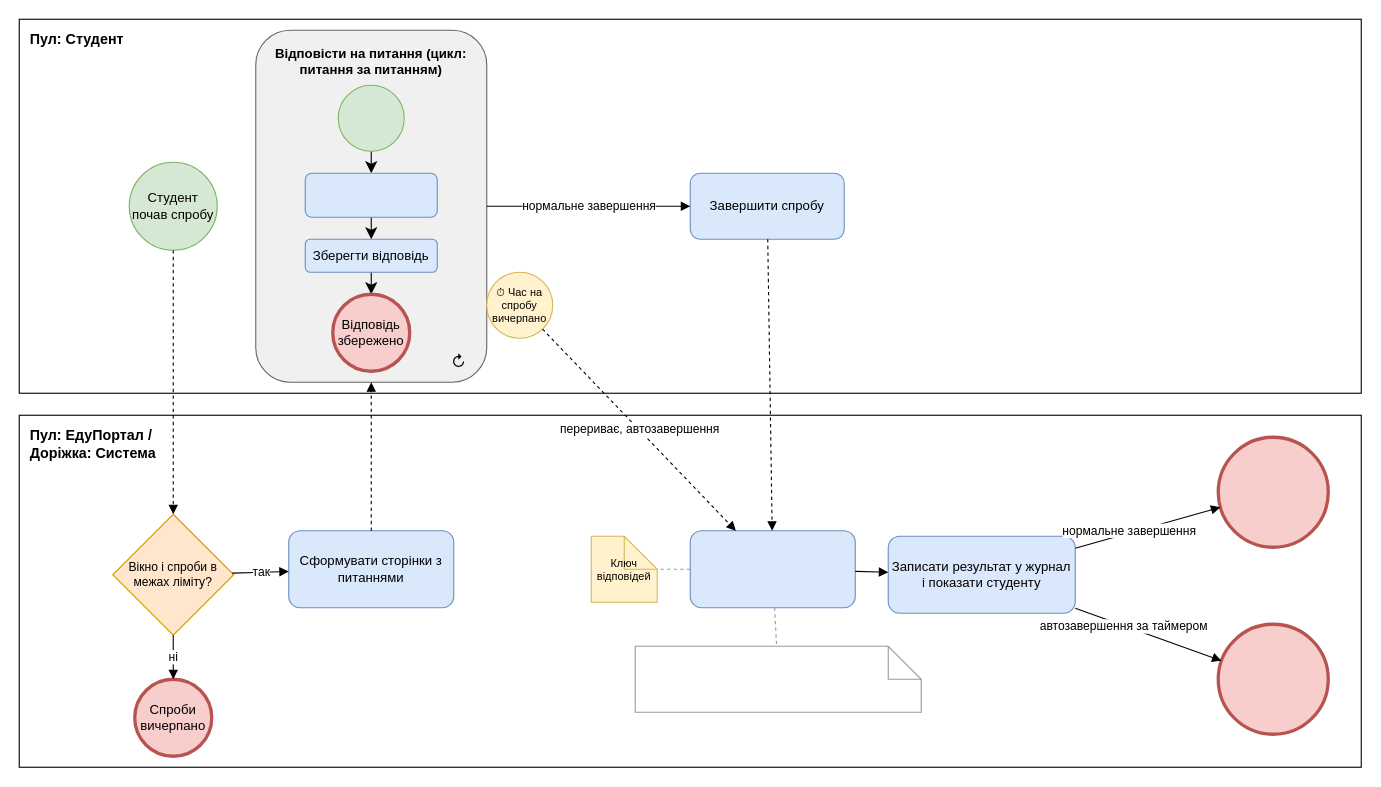
Image size: 1381x787. Some labels were removed from this diagram. Here are the shapes that lost their labels. From the top down, the centre of each, then its label:
At (x=370, y=117): "Питання показано".
At (x=370, y=194): "Обрати/ввести відповідь".
At (x=1272, y=491): "Спробу завершено".
At (x=772, y=569): "Автоматично оцінити".
At (x=777, y=678): "Частковий бал за питання з кількома правильними — рахує QuizScorer".
At (x=1272, y=678): "Час вичерпано, автозавершення".
